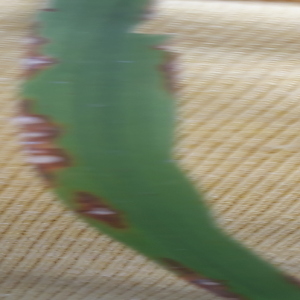Rice_Blast: (67, 187, 128, 232), (6, 104, 67, 138), (175, 259, 231, 292), (22, 145, 70, 172), (9, 51, 65, 70), (19, 130, 76, 148), (19, 25, 54, 53)
